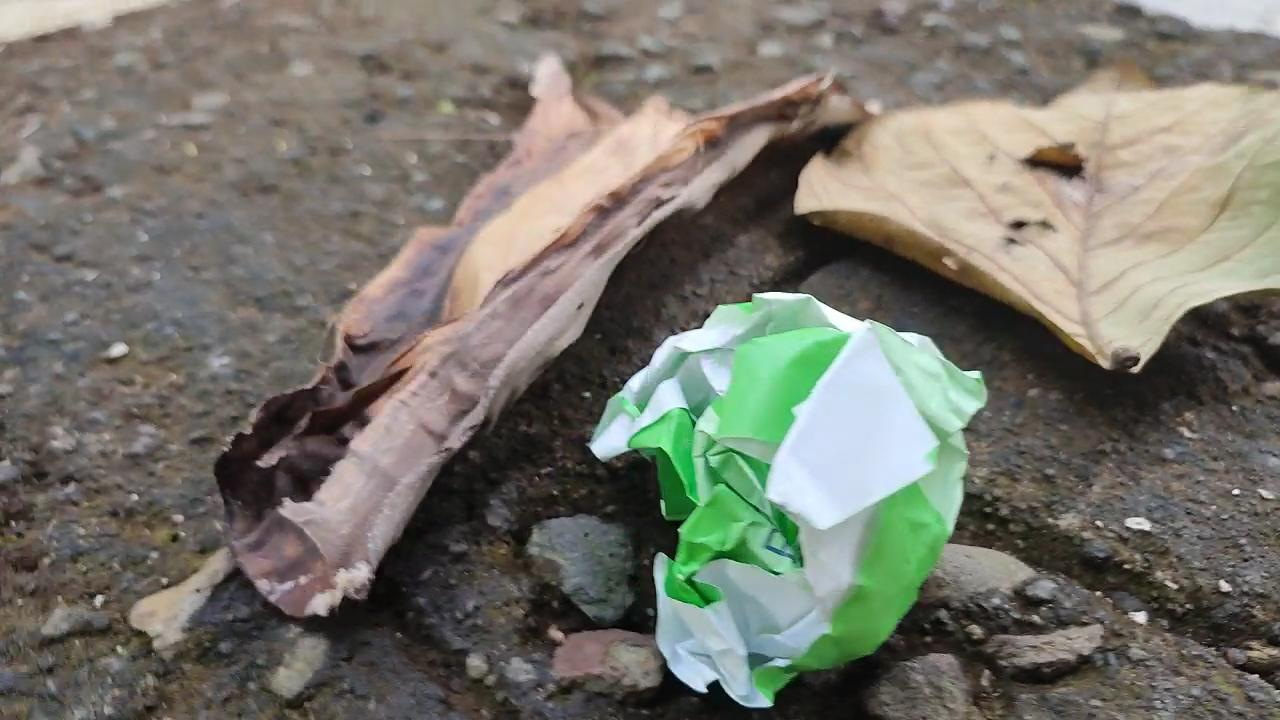Paper: (578, 278, 1007, 720)
